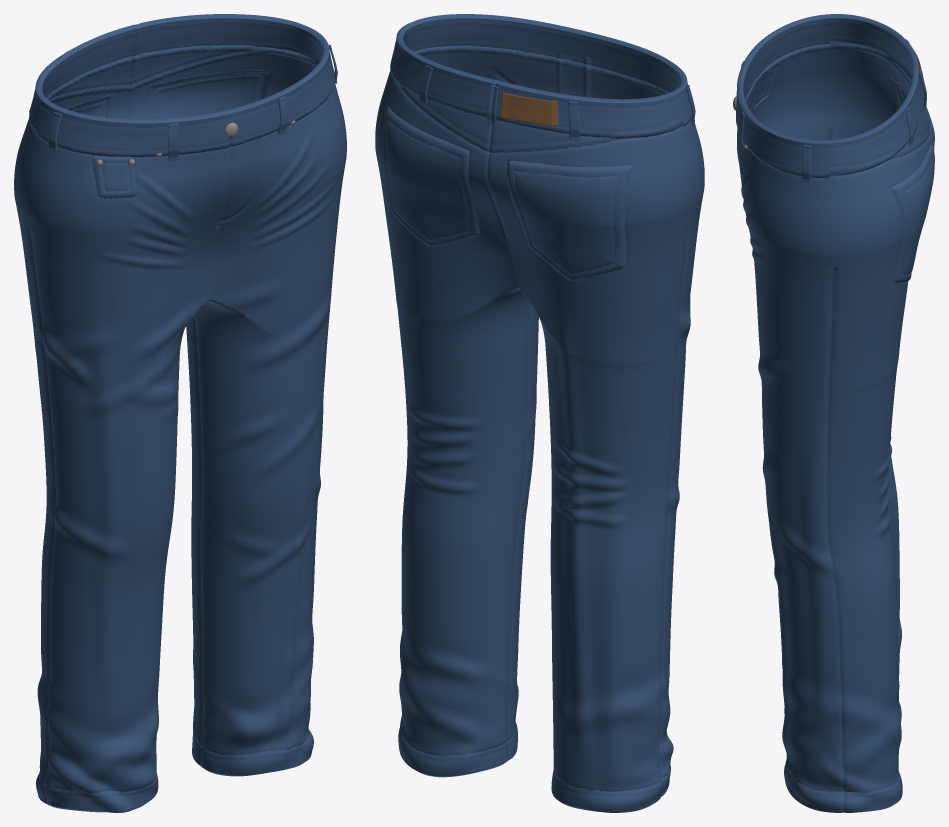
The model's file is 22_vaquero_slim.glb.
3 renders of one model, left to right at view 1: azimuth 30°, elevation 25°; view 2: azimuth 150°, elevation 25°; view 3: azimuth 270°, elevation 25°, orthographic. The views are drawn at different scales.
Visible parts, largest first — view 1: body; view 2: body, trim; view 3: body.
Boxes of the visible parts, bbox=[...] form: body: bbox=[14, 14, 346, 812]; body: bbox=[375, 14, 704, 812]; trim: bbox=[500, 93, 558, 125]; body: bbox=[736, 14, 934, 812].
Bounding box in the file's own units: 0.4237 × 0.9531 × 0.2517.
